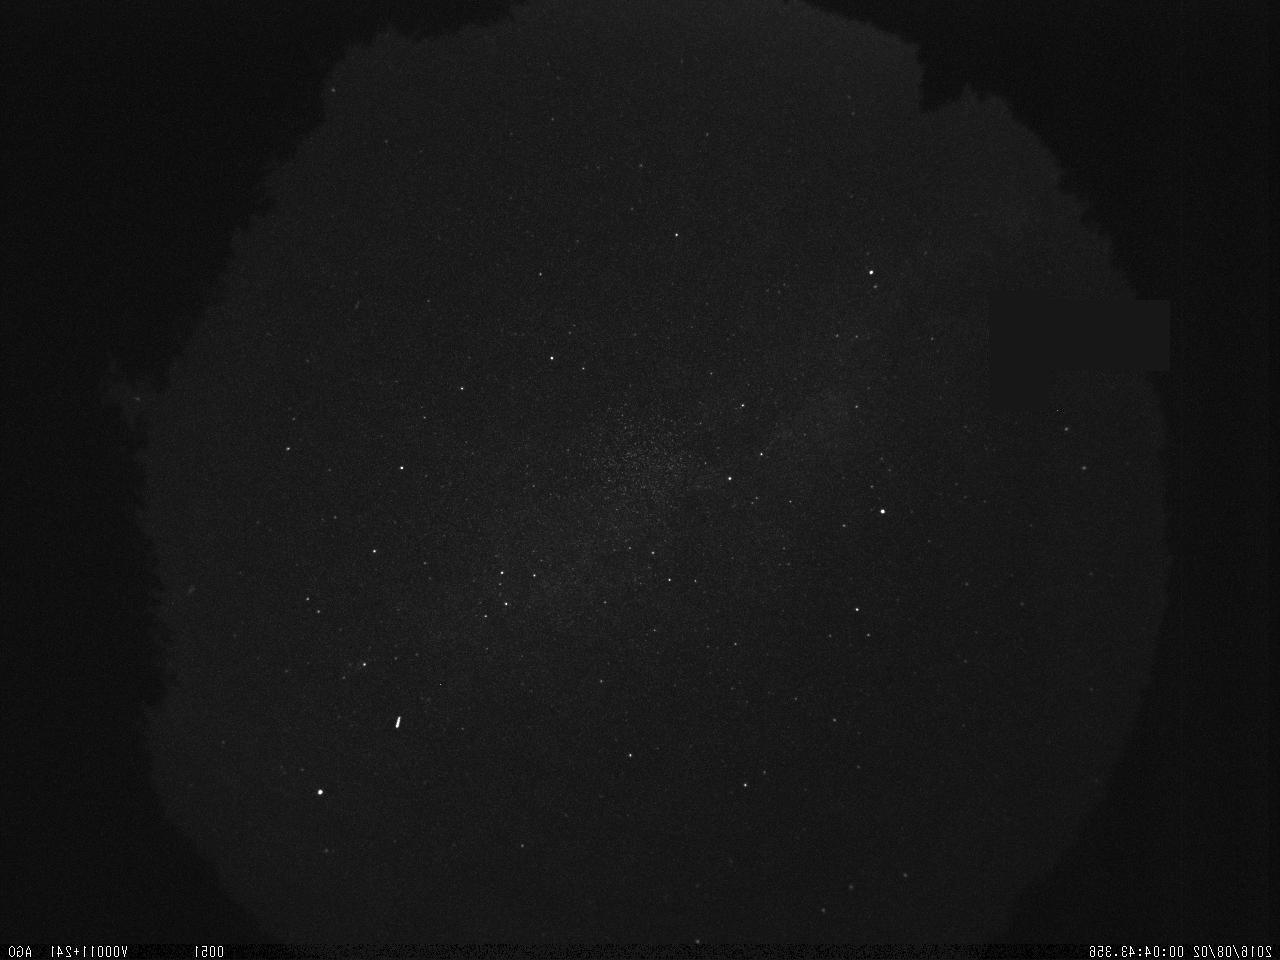meteor: (379, 695, 413, 755)
